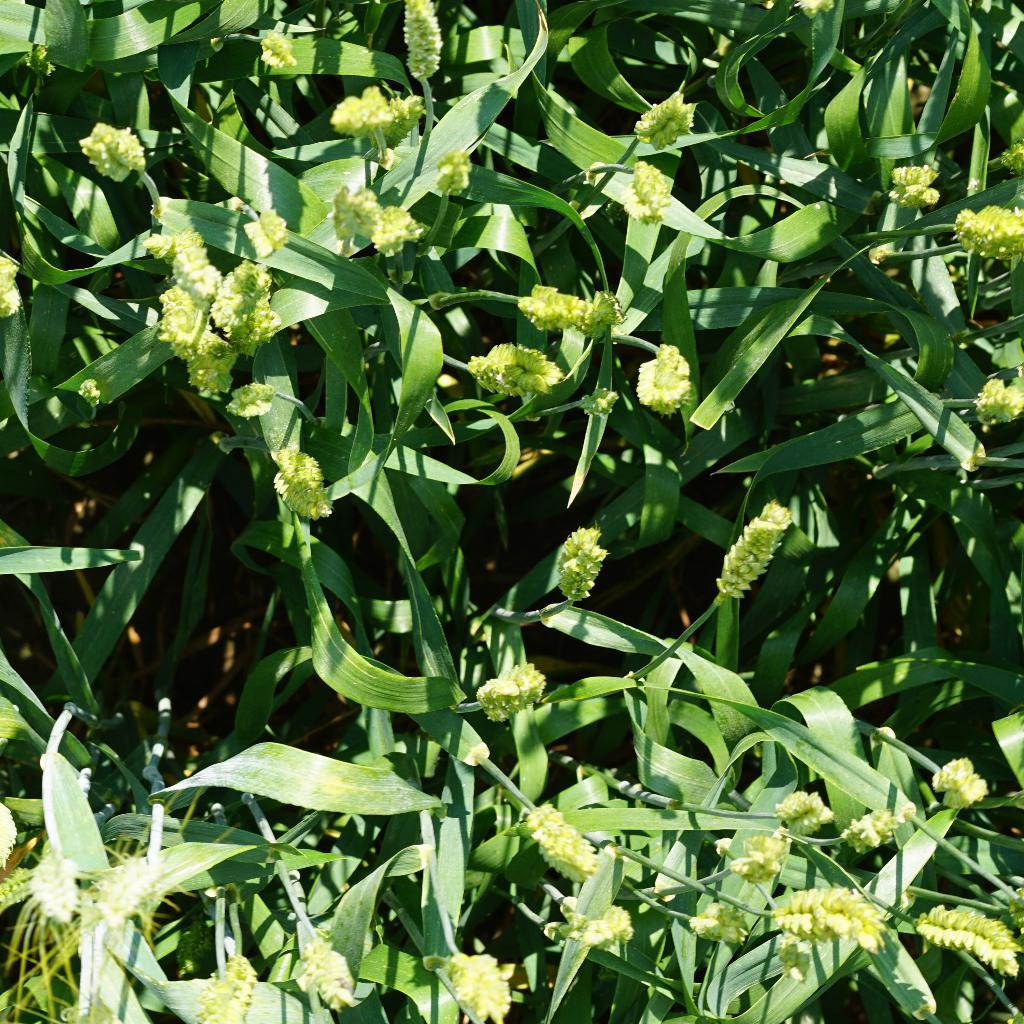0-0: (899, 888, 1024, 978), (511, 784, 613, 889), (146, 286, 238, 402), (766, 881, 896, 963), (706, 493, 797, 606), (310, 70, 432, 150), (509, 269, 626, 350), (246, 432, 354, 519), (458, 329, 574, 404), (432, 938, 522, 1024), (295, 925, 377, 1019), (221, 261, 302, 351), (463, 653, 557, 728), (190, 935, 268, 1024), (628, 329, 705, 418), (548, 516, 615, 616), (73, 114, 161, 190), (142, 221, 224, 296), (92, 848, 164, 925), (928, 747, 1001, 821), (960, 193, 1024, 275), (636, 88, 712, 157), (683, 899, 769, 955), (230, 198, 306, 260), (394, 0, 448, 85), (724, 829, 791, 893), (317, 179, 381, 245), (620, 155, 681, 220), (32, 847, 86, 920), (881, 153, 945, 213), (763, 787, 830, 843), (0, 863, 60, 925), (570, 900, 638, 953), (840, 804, 904, 860), (221, 370, 280, 429), (367, 201, 428, 256), (436, 146, 486, 213), (972, 365, 1024, 427), (772, 927, 816, 991), (250, 24, 296, 74), (0, 246, 27, 324), (574, 385, 618, 420), (25, 38, 57, 82), (75, 373, 103, 411)
